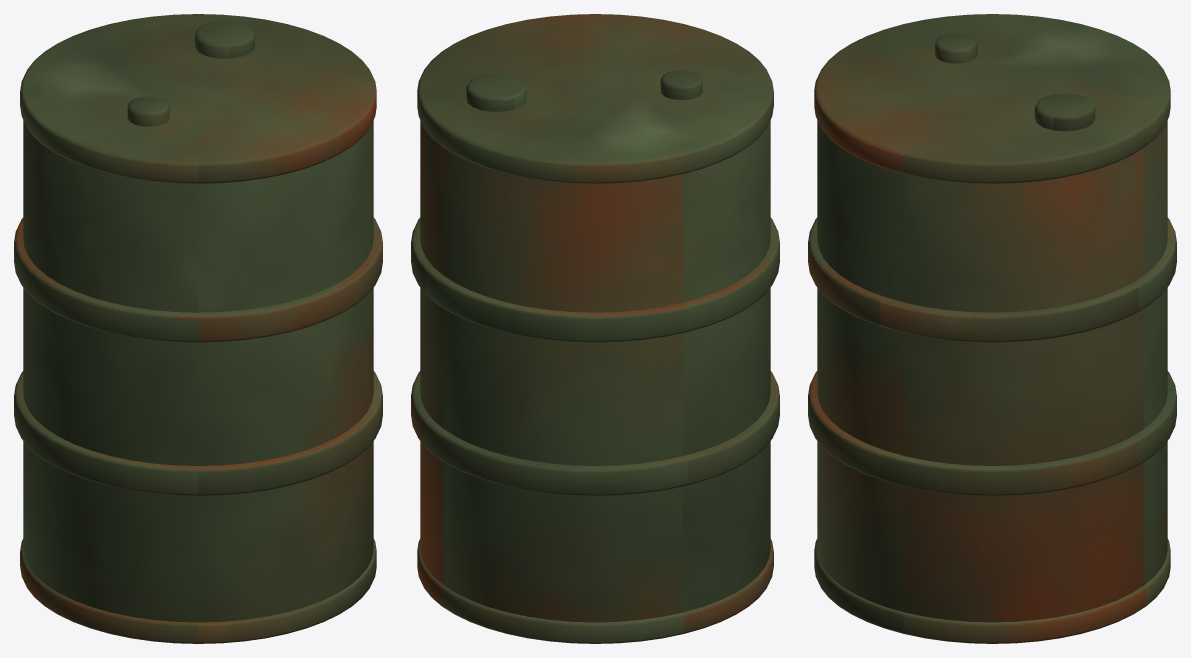
The model's file is fuel_barrel.glb.
3 views of the same model, side by side, from view 1: azimuth 30°, elevation 25°; view 2: azimuth 150°, elevation 25°; view 3: azimuth 270°, elevation 25° (orthographic).
Parts seen in each view (by area): view 1: fuel_barrel; view 2: fuel_barrel; view 3: fuel_barrel.
Part boxes in pixels (x1,y1,x2,y2): fuel_barrel: (14, 14, 382, 643); fuel_barrel: (411, 14, 779, 643); fuel_barrel: (808, 14, 1176, 643).
Bounding box in the file's own units: 0.61 × 0.905 × 0.61.
1 material, 1 textured.
